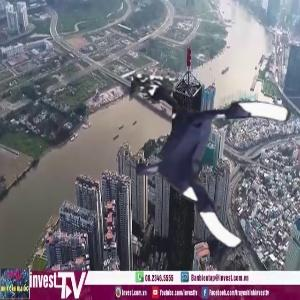drone: (122, 83, 287, 248)
